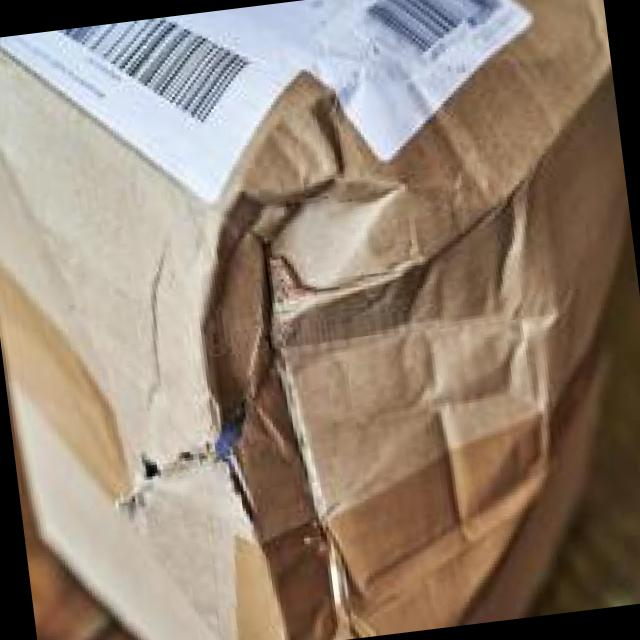box: (0, 0, 640, 640)
crushed: (186, 193, 566, 640), (240, 67, 431, 278)
